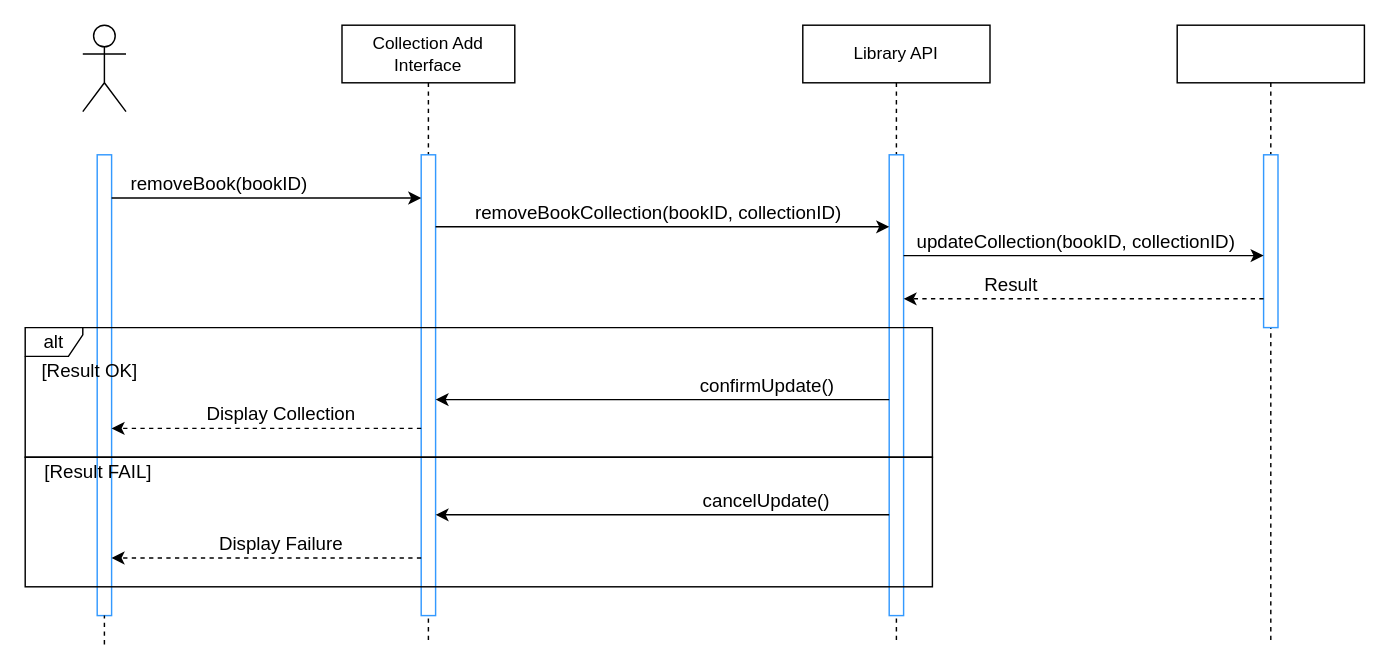
Some shapes in this 1390 by 671 pixel diagram are drawn without their labels. Each missing label, with the centre of its shape:
Repository: [1270,334]
Student: [103,68]
